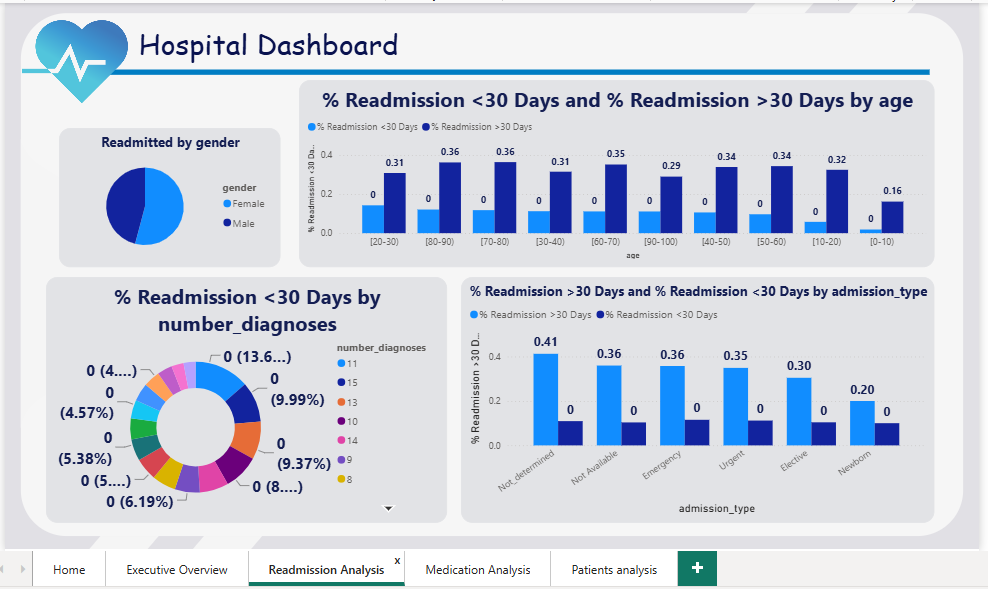

The dashboard page shown, as its layout file describes it:
{"tool":"powerbi","page":{"name":"Readmission Analysis","canvas":[1280,720],"ordinal":2},"visuals":[{"type":"image","box":[12.5,9.7,158.4,136.2],"z":0},{"type":"textbox","box":[170.9,22.2,359.9,79.2],"z":1000},{"type":"clusteredColumnChart","fields":{"Category":["Data.age"],"Y":["Dax Measure.% Readmission <30 Days","Dax Measure.% Readmission >30 Days"]},"box":[385.9,100.8,835.2,246.2],"z":2000},{"type":"pieChart","title":"Readmitted by gender","fields":{"Category":["Data.gender"],"Y":["Dax Measure.ReadmittedCount"]},"box":[70.6,164.2,290.9,182.9],"z":4000},{"type":"clusteredColumnChart","fields":{"Category":["Data.admission_type"],"Y":["Dax Measure.% Readmission >30 Days","Dax Measure.% Readmission <30 Days"]},"box":[599,360,622.1,322.6],"z":5000},{"type":"donutChart","fields":{"Category":["Data.number_diagnoses"],"Y":["Dax Measure.% Readmission <30 Days"]},"box":[53.3,360,527,322.6],"z":7000}]}

Visuals, with their boxes on the page's 1280x720 design canvas (x1, y1, x2, y2). These are canvas units, not pixel positions in the 988x589 screenshot, which may show the page scaled, cropped or inside an application window:
image: (12,10,171,146)
textbox: (171,22,531,101)
clusteredColumnChart - Data.age x Dax Measure.% Readmission <30 Days: (386,101,1221,347)
"Readmitted by gender" pieChart: (71,164,362,347)
clusteredColumnChart - Data.admission_type x Dax Measure.% Readmission >30 Days: (599,360,1221,683)
donutChart - Data.number_diagnoses x Dax Measure.% Readmission <30 Days: (53,360,580,683)
